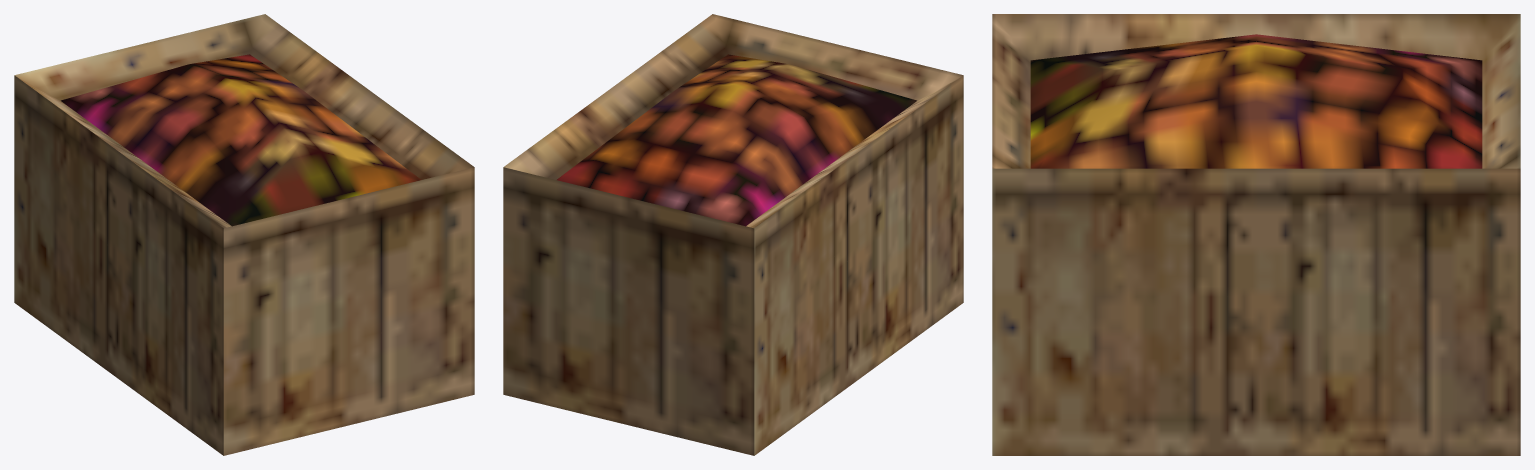
File: treasure_produce_bin_a.glb
The picture shows the model from 3 angles, left to right: view 1: azimuth 30°, elevation 25°; view 2: azimuth 150°, elevation 25°; view 3: azimuth 270°, elevation 25°; orthographic projection. The views are drawn at different scales.
Visible parts, largest first — view 1: treasure_produce_bin_a_part0; view 2: treasure_produce_bin_a_part0; view 3: treasure_produce_bin_a_part0.
Part boxes in pixels (left/top/right/bottom): treasure_produce_bin_a_part0: left=14, top=14, right=474, bottom=455; treasure_produce_bin_a_part0: left=503, top=14, right=963, bottom=455; treasure_produce_bin_a_part0: left=992, top=14, right=1520, bottom=455.
Bounding box in the file's own units: 0.9109 × 0.9129 × 1.32.
1 material, 1 textured.
